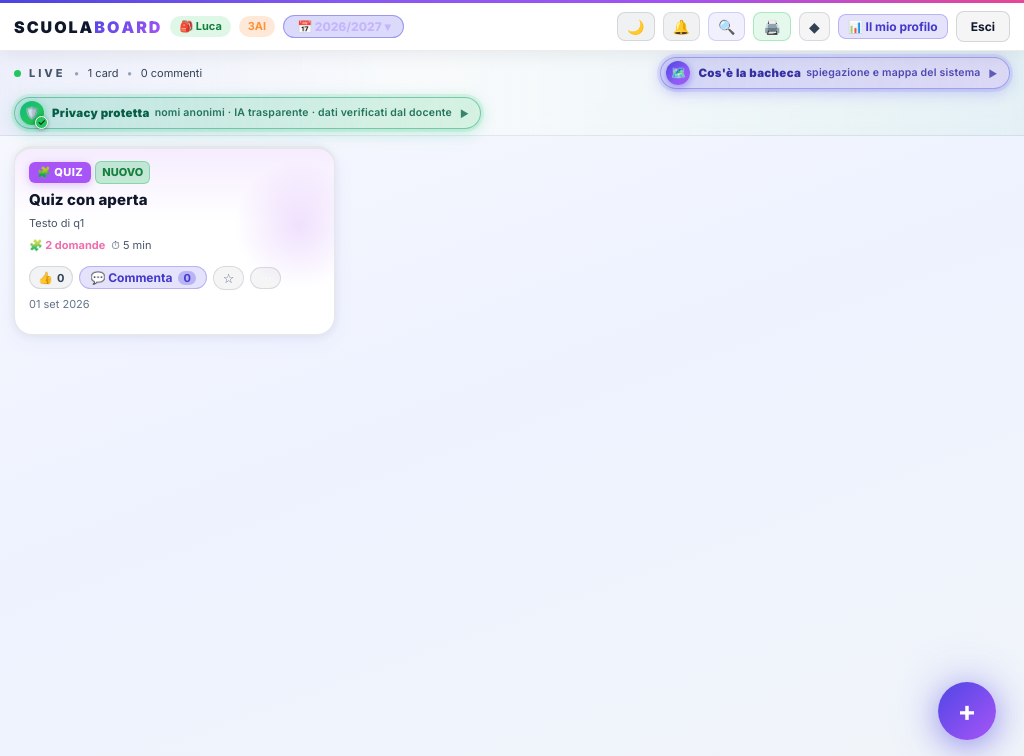
Test: Quiz interattivo (studente) › domanda APERTA: mostra la textarea e abilita Invia solo dopo aver scritto
Click the text "Quiz con aperta" at coordinates (88, 199), box [29, 190, 148, 208]
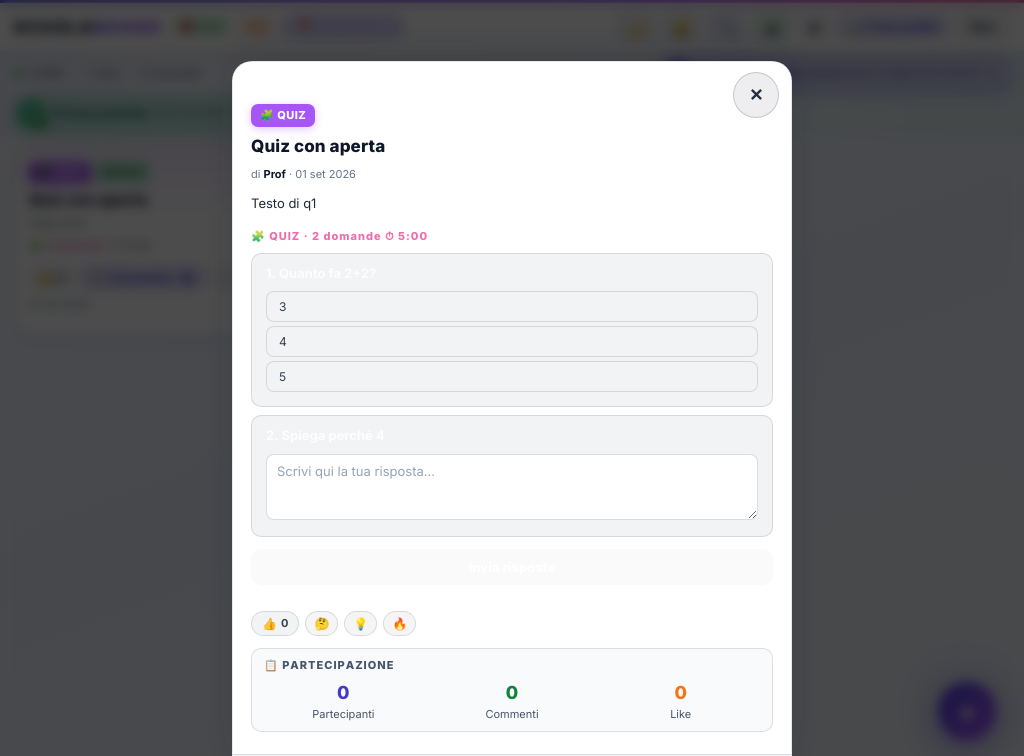
Check: the text "🧩 QUIZ · 2 domande ⏱ 5:00" is shown, box [251, 230, 428, 244]
Check: the text box with placeholder "Scrivi qui la tua risposta…" is shown, box [266, 454, 758, 520]
// Rispondo alla multipla, ma l'aperta è vuota → Invia resta disabilitato
Click the button "4" at coordinates (283, 342), box [266, 326, 758, 358]
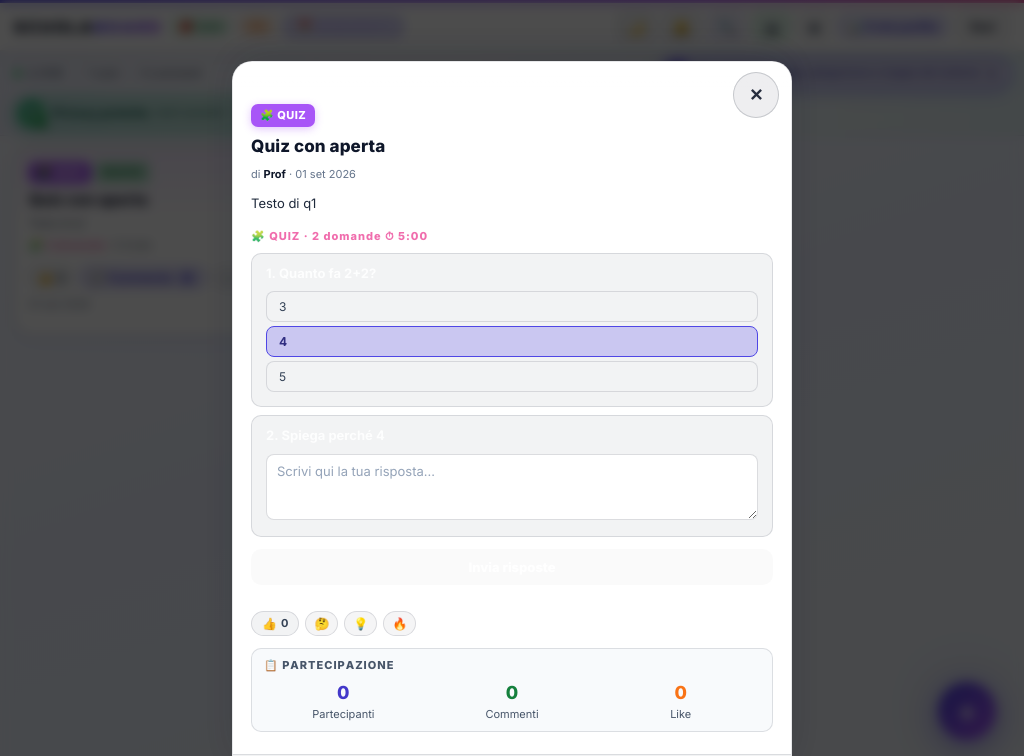
// Scrivo nell'aperta → Invia si abilita. Il campo usa onInput (non onChange).
Type "Perché 3 + 1 fa 4" into the text box with placeholder "Scrivi qui la tua risposta…" at coordinates (512, 487), box [266, 454, 758, 520]
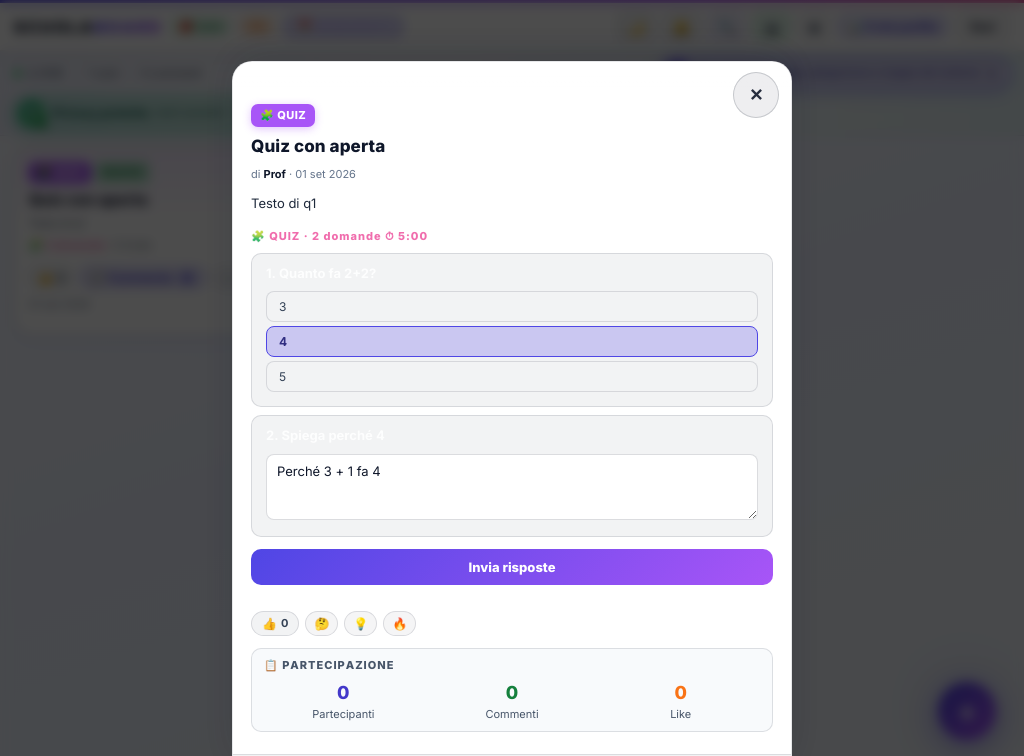
Check: the button "Invia risposte" is enabled
Click the button "Invia risposte" at coordinates (512, 567), box [251, 549, 773, 585]
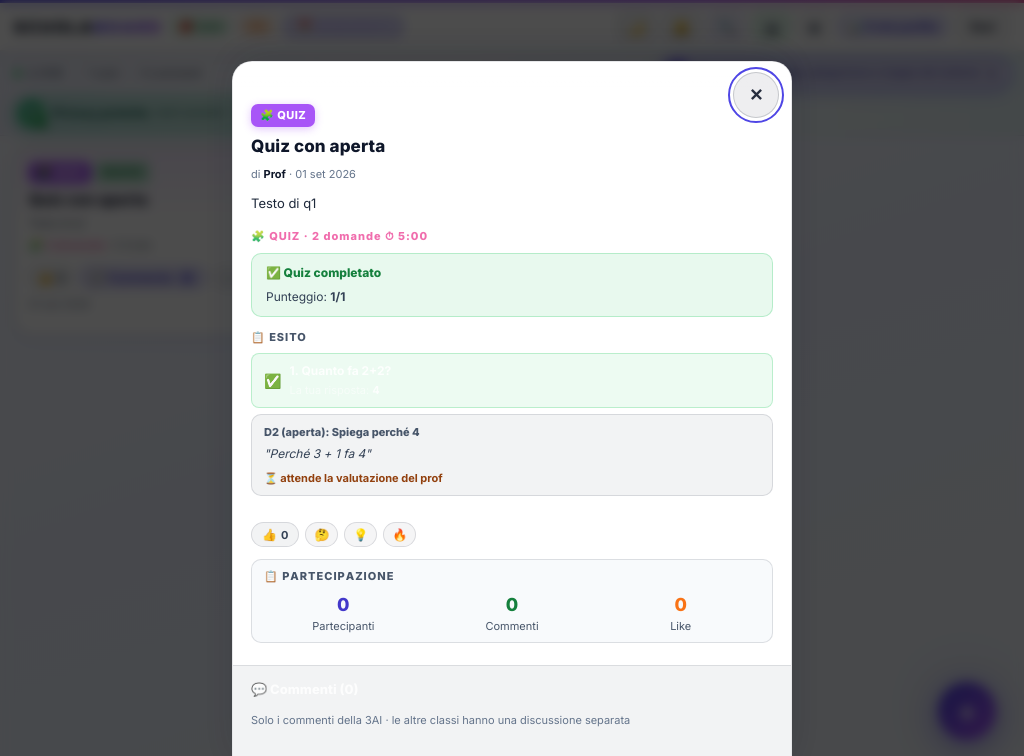
Check: the text "✅ Quiz completato" is shown, box [266, 265, 381, 280]
